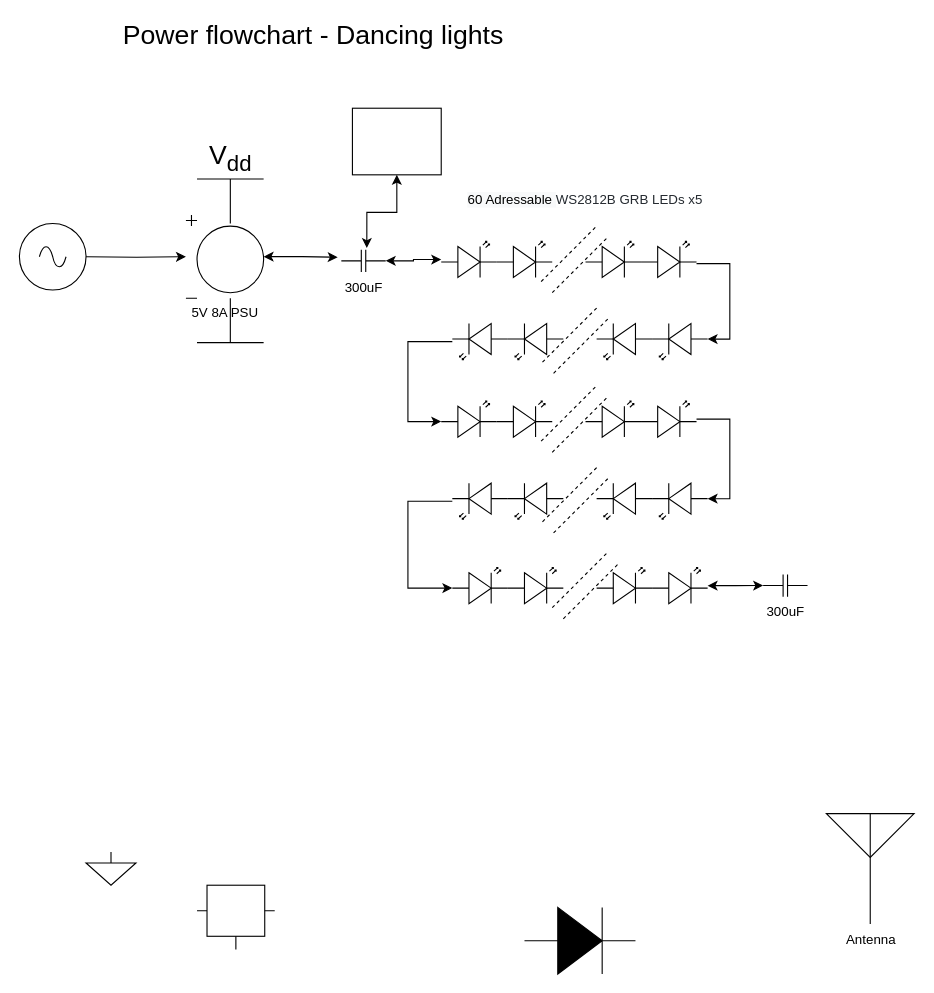
Image size: 934x993. Some labels were removed from this diagram. Here are the shapes that lost their labels. From the top down, the centre of each, then its label:
At [396,141]: "Arduino Nano".
At [52,256]: "230V".
At [230,320]: "V ss".
